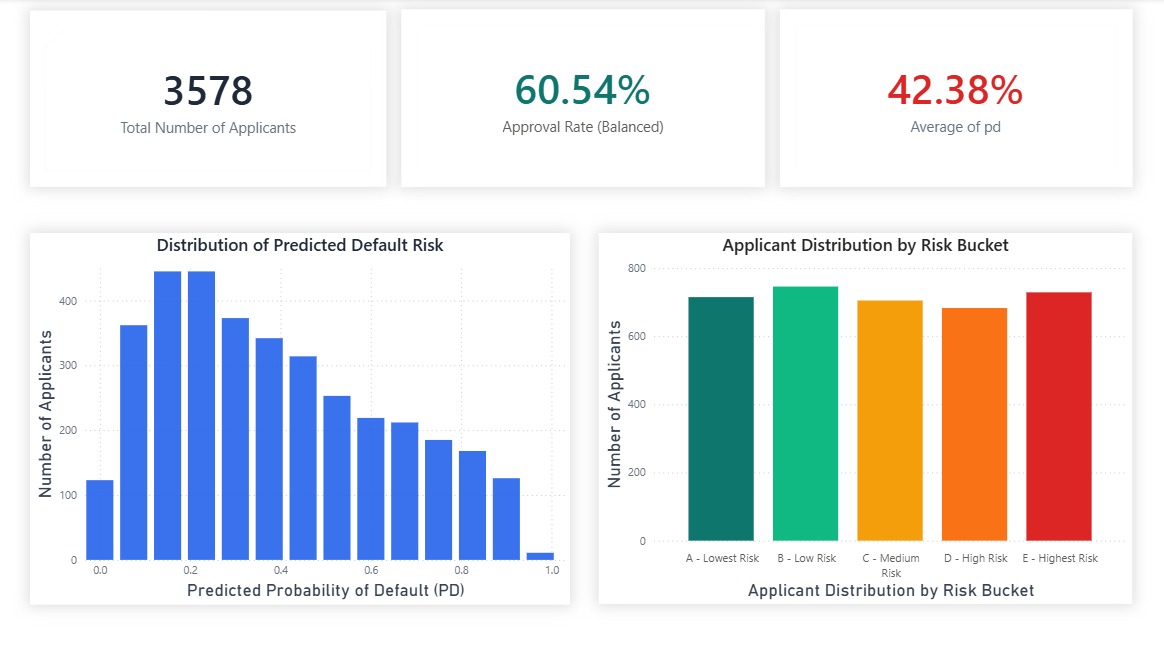

What the dashboard file says about the page in this screenshot:
{"tool":"powerbi","page":{"name":"Executive Risk Overview","canvas":[1280,720],"ordinal":0},"visuals":[{"type":"cardVisual","fields":{"Data":["CountNonNull(pd_scoring_output_pbi.pd)"]},"box":[32.9,13.7,391.1,193.5],"z":0},{"type":"cardVisual","fields":{"Data":["pd_scoring_output_pbi.Approval Rate (Balanced)"]},"box":[440.5,12.3,399.3,194.9],"z":1000},{"type":"cardVisual","fields":{"Data":["Avg(pd_scoring_output_pbi.pd)"]},"box":[856.3,12.3,387,194.9],"z":2000},{"type":"clusteredColumnChart","title":"Distribution of Predicted Default Risk","fields":{"Y":["CountNonNull(pd_scoring_output_pbi.pd)"],"Category":["pd_scoring_output_pbi.pd (bins)"]},"box":[32.8,258,593,407.7],"z":3000},{"type":"clusteredColumnChart","title":"Applicant Distribution by Risk Bucket","fields":{"Category":["pd_scoring_output_pbi.risk_bucket"],"Y":["CountNonNull(pd_scoring_output_pbi.risk_bucket)"]},"box":[657.3,258,585.9,407.5],"z":4000}]}

Visuals, with their boxes in screenshot pixels (x1, y1, x2, y2), scaled from the page's 1280x720 canvas onto the 1164x654 screenshot:
cardVisual - CountNonNull(pd_scoring_output_pbi.pd): crop(30, 12, 386, 188)
cardVisual - pd_scoring_output_pbi.Approval Rate (Balanced): crop(401, 11, 764, 188)
cardVisual - Avg(pd_scoring_output_pbi.pd): crop(779, 11, 1131, 188)
"Distribution of Predicted Default Risk" clusteredColumnChart: crop(30, 234, 569, 605)
"Applicant Distribution by Risk Bucket" clusteredColumnChart: crop(598, 234, 1131, 604)
